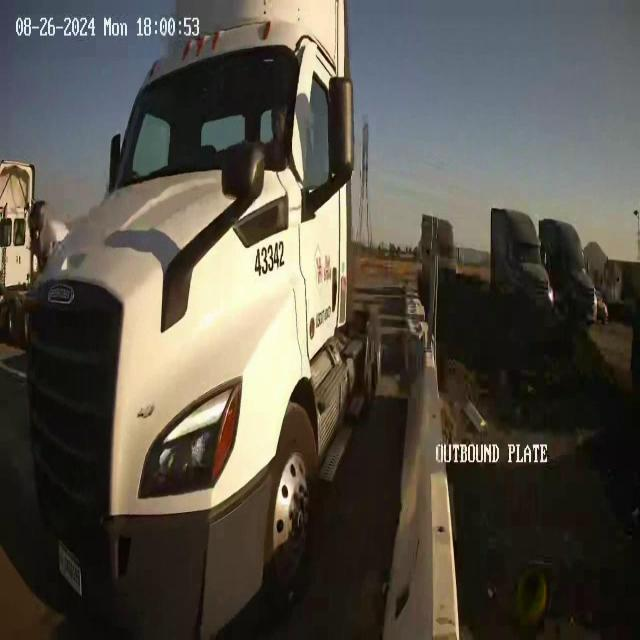TRUCK_OUT: (22, 2, 356, 637)
